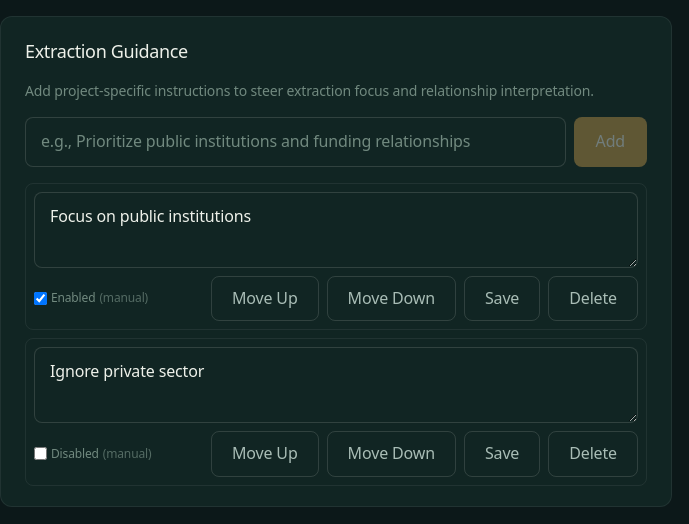
GuidancePanel — loaded state › add button enables when input has text
Replace the text in the field with placeholder "Prioritize" with "New guidance" at (295, 142), box [25,117,566,167]
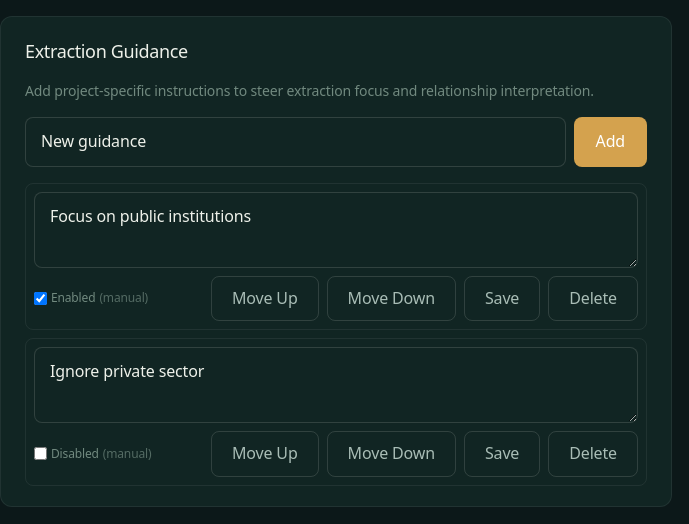
Result: the button "Add" is enabled at [574,117,647,167]
